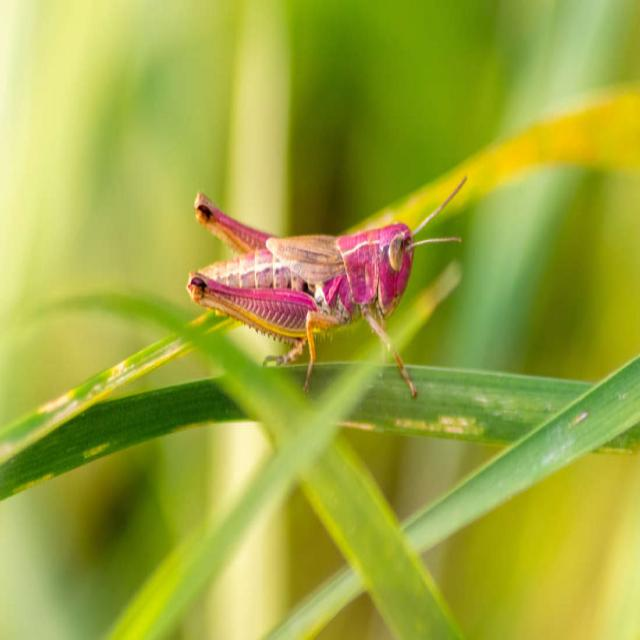ZhaMeng: (175, 176, 480, 375)
